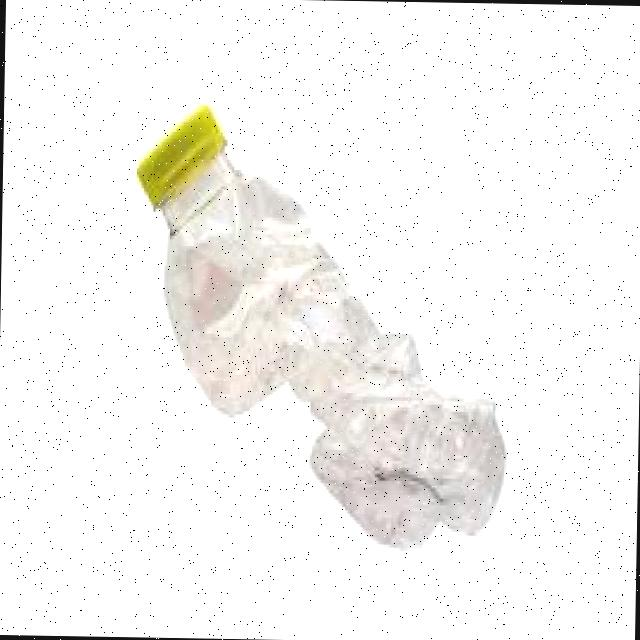bottle: (121, 97, 518, 556)
cap: (130, 99, 232, 212)
